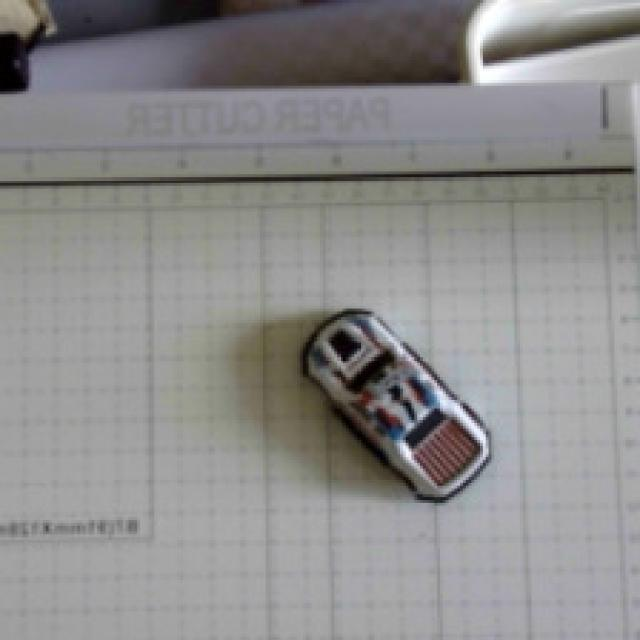Grey Car: (250, 275, 529, 552)
